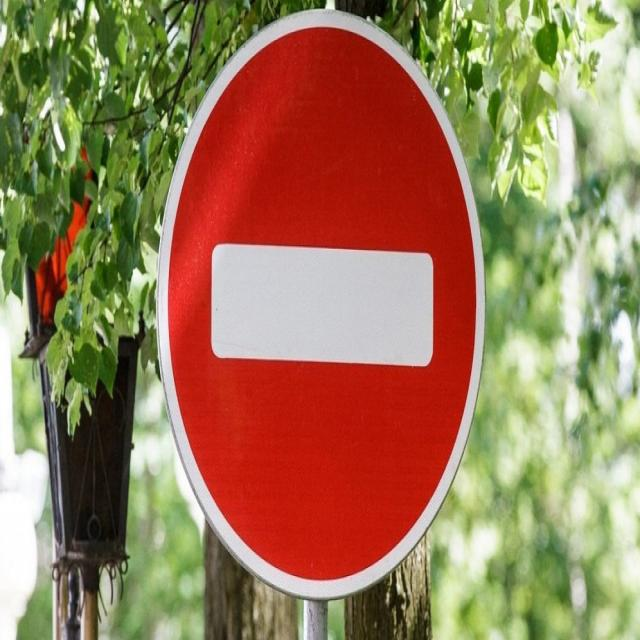no entry: (153, 6, 491, 604)
